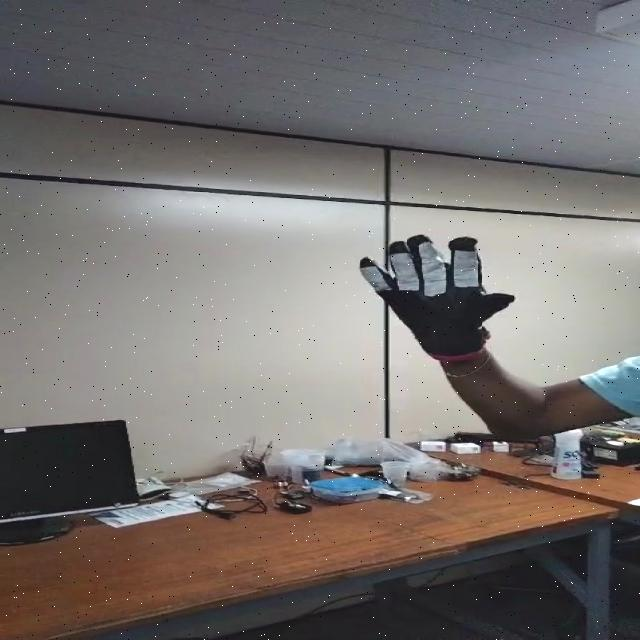Gloves: (362, 230, 516, 360)
